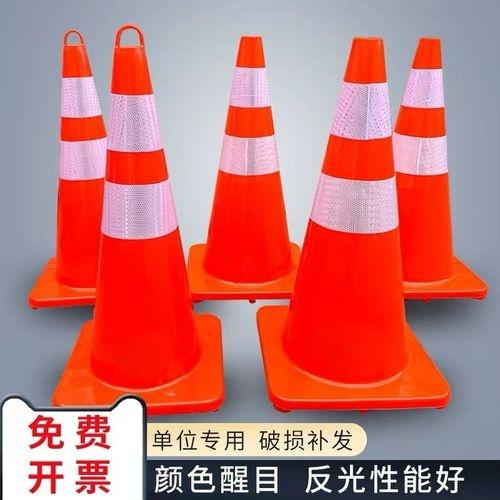cone_barrel: (277, 37, 422, 388), (82, 34, 207, 405), (197, 43, 300, 294), (36, 39, 114, 301), (391, 41, 471, 294)
